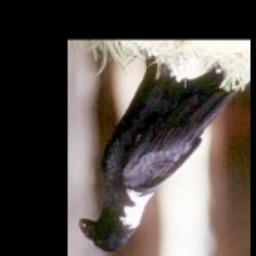Crow: (77, 50, 244, 256)
